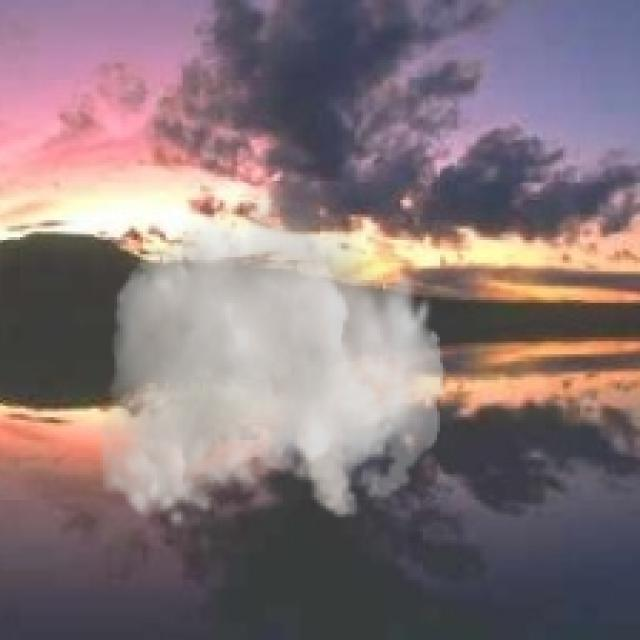Smoke: (97, 174, 446, 529)
